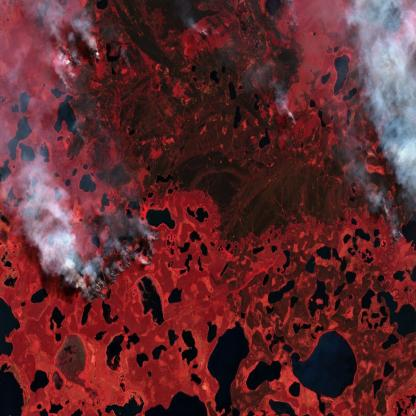fire: (42, 211, 163, 304), (369, 86, 416, 255), (52, 12, 117, 100), (273, 87, 300, 130), (193, 18, 220, 42), (284, 1, 300, 30)
